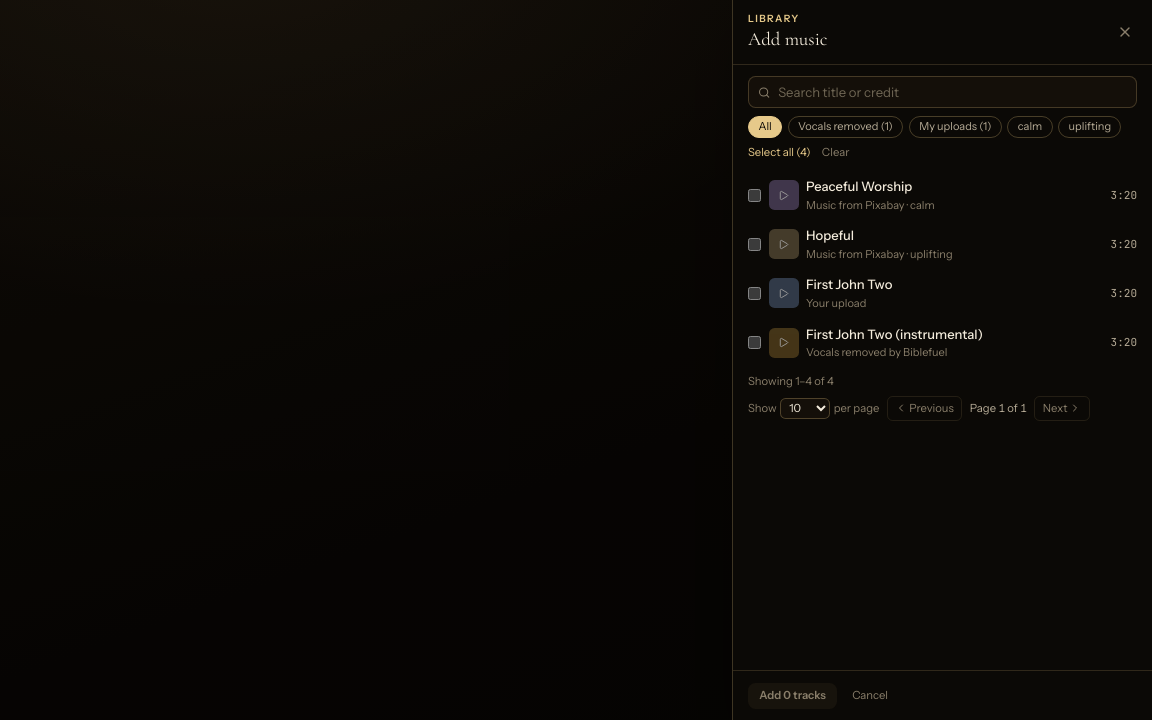
Test: LibraryDrawer shelves › moods still filter
Click the button "uplifting".
click(1090, 127)  # box [1058,116,1121,138]
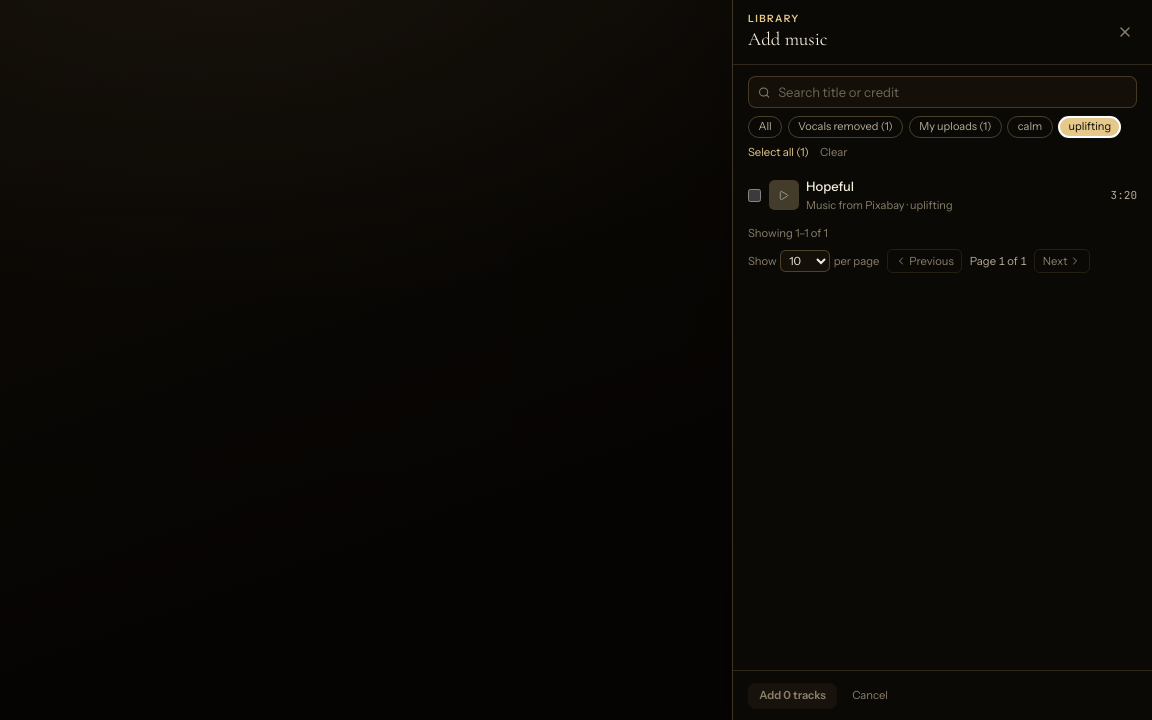
Expected: the number of checkboxes is 1, [748,189,761,202]
